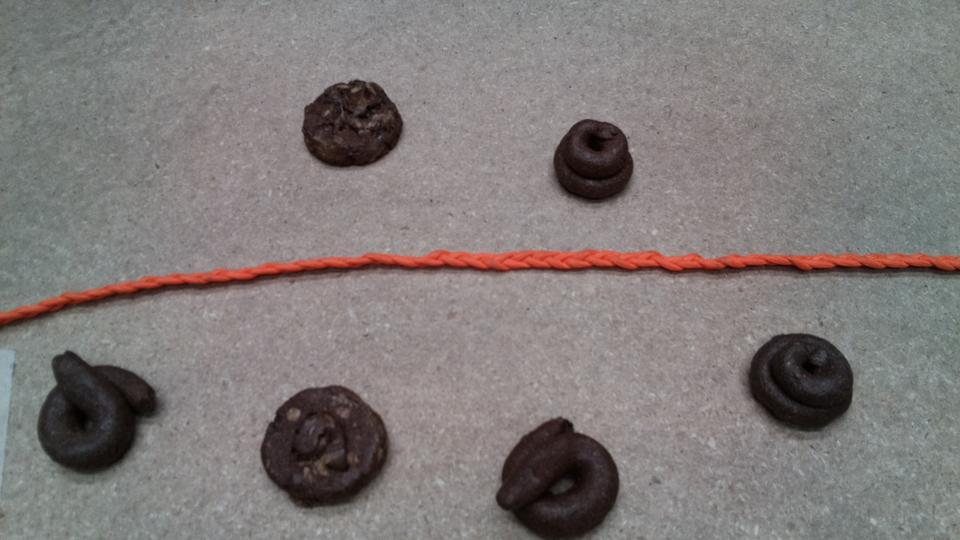poop: (259, 379, 401, 519), (34, 345, 175, 477), (496, 416, 628, 540), (748, 326, 861, 440), (297, 74, 417, 174), (551, 116, 636, 206)
rope: (252, 242, 960, 286), (4, 264, 263, 334)
